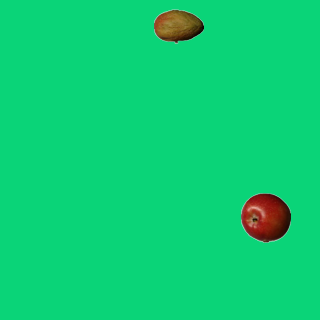Apple Braeburn: (240, 192, 290, 242)
Papaya: (153, 1, 203, 51)
